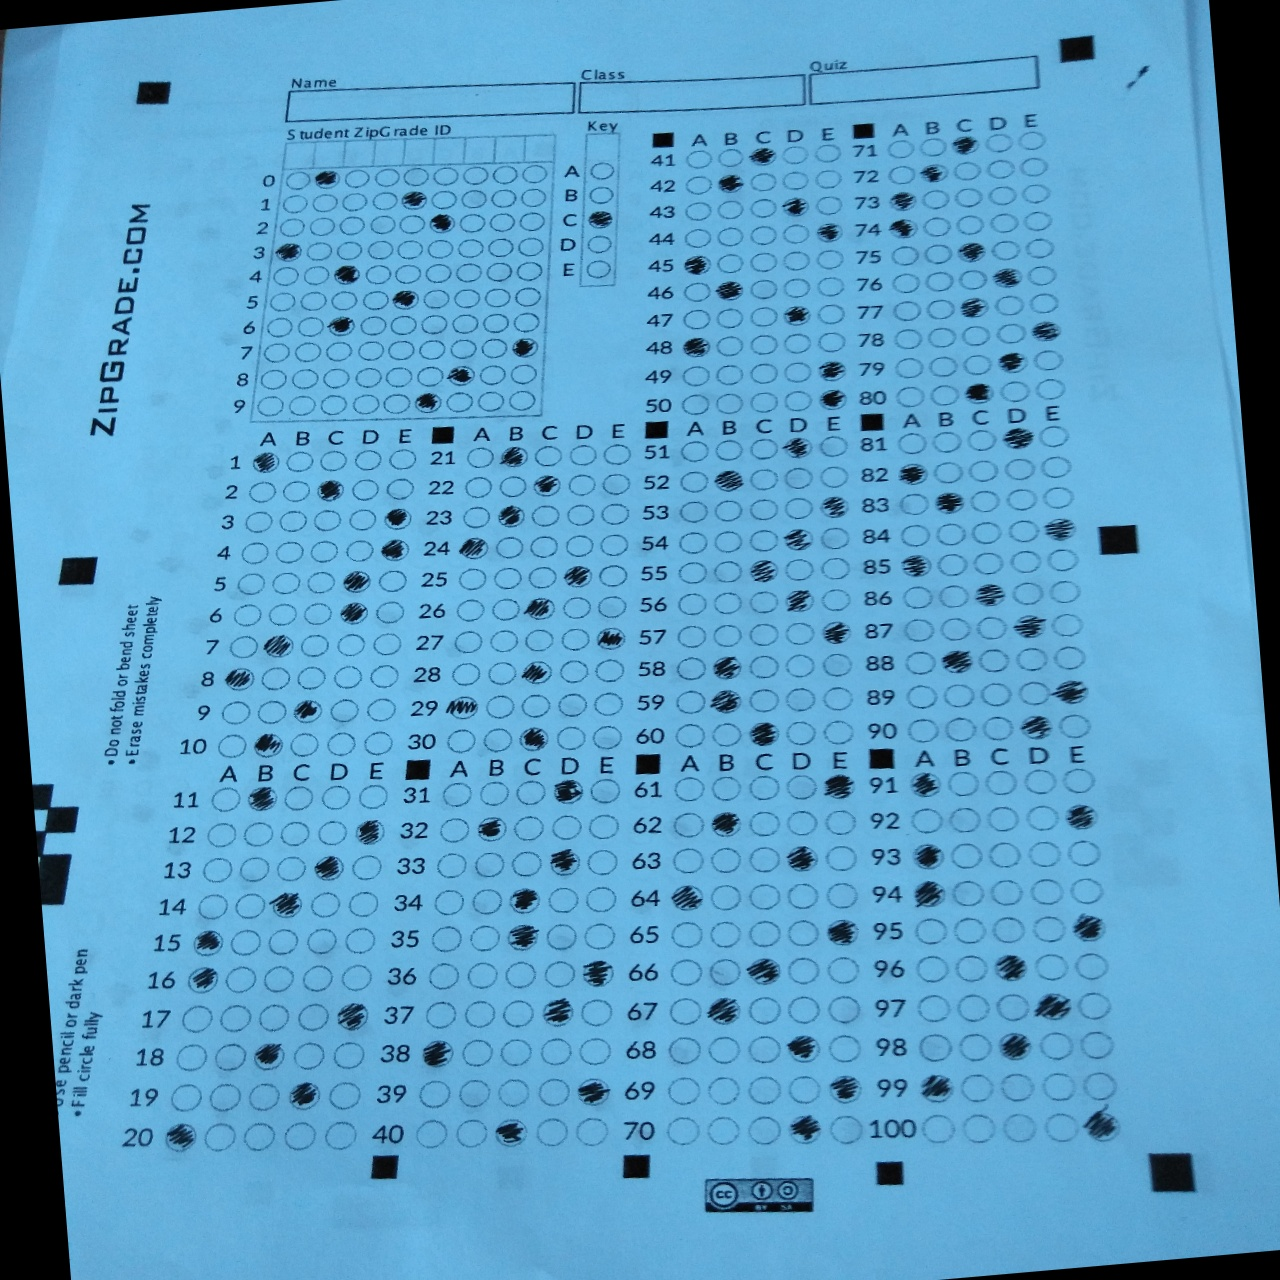not-c: (998, 1069, 1039, 1105), (1080, 1069, 1121, 1104), (666, 956, 704, 990), (707, 918, 745, 952), (823, 954, 862, 988), (983, 803, 1022, 837), (1068, 874, 1107, 908), (1032, 949, 1070, 983), (1077, 1028, 1116, 1062), (999, 1111, 1039, 1144), (745, 1114, 783, 1148), (826, 1114, 864, 1148), (704, 1075, 742, 1109), (707, 956, 744, 990), (745, 1032, 783, 1065), (824, 992, 862, 1026), (745, 917, 783, 951), (707, 881, 744, 915), (744, 806, 782, 840), (707, 840, 744, 874), (670, 772, 708, 806), (708, 772, 745, 806), (745, 771, 783, 805), (945, 765, 982, 799), (983, 767, 1021, 801), (1061, 764, 1098, 798), (1024, 801, 1062, 835), (1028, 874, 1065, 908), (949, 874, 987, 908), (665, 996, 703, 1029), (706, 1034, 744, 1067), (1027, 836, 1065, 869), (951, 915, 989, 948), (1036, 1030, 1075, 1063), (955, 1032, 994, 1064), (915, 1032, 954, 1064), (918, 1112, 956, 1145), (959, 1112, 998, 1145), (1042, 1112, 1081, 1145), (1039, 1070, 1077, 1103), (956, 1071, 996, 1103), (745, 1073, 782, 1107), (824, 806, 860, 840), (1022, 765, 1058, 799), (988, 874, 1024, 908), (1030, 911, 1067, 945), (955, 990, 992, 1024), (665, 1115, 702, 1148), (703, 1114, 741, 1146), (784, 1074, 822, 1107), (666, 1074, 703, 1107), (666, 1034, 703, 1067), (667, 918, 704, 951), (826, 1033, 864, 1065), (787, 994, 824, 1027), (747, 993, 784, 1026), (785, 954, 823, 987), (784, 918, 822, 951), (745, 881, 783, 914), (823, 879, 860, 912), (823, 842, 860, 874), (745, 842, 783, 874), (669, 845, 707, 878), (669, 809, 707, 842), (783, 771, 821, 804), (1065, 836, 1103, 869), (913, 914, 951, 947), (913, 951, 951, 983), (952, 952, 989, 985), (1073, 949, 1110, 982), (915, 992, 953, 1024), (993, 990, 1030, 1023), (1075, 989, 1112, 1022), (1046, 576, 1083, 608), (673, 686, 710, 719), (291, 1039, 326, 1073), (331, 1039, 366, 1073), (341, 924, 377, 956), (264, 926, 300, 959), (436, 815, 472, 847), (584, 846, 620, 879), (544, 920, 580, 953), (510, 812, 546, 845), (467, 922, 503, 955), (223, 964, 259, 996), (202, 1121, 238, 1153), (414, 1118, 450, 1151), (573, 1115, 610, 1148), (503, 958, 539, 990), (422, 999, 458, 1032), (462, 998, 498, 1030), (784, 879, 821, 912), (784, 806, 821, 839), (947, 802, 983, 835), (907, 804, 944, 837), (948, 838, 985, 871), (986, 838, 1022, 871), (903, 682, 940, 714), (708, 719, 745, 750), (207, 1080, 241, 1114), (501, 998, 535, 1032), (428, 924, 463, 956), (440, 778, 475, 811), (513, 776, 549, 809), (586, 811, 621, 844), (583, 881, 618, 914), (583, 919, 618, 952), (509, 847, 544, 880), (469, 885, 504, 918), (173, 1041, 209, 1074), (213, 1041, 248, 1074), (241, 1121, 277, 1153), (295, 1001, 331, 1034), (256, 1001, 291, 1034), (282, 1119, 318, 1152), (415, 1078, 450, 1111), (456, 1077, 491, 1110), (495, 1076, 530, 1109), (579, 996, 614, 1029), (540, 958, 576, 990), (424, 960, 459, 993), (459, 1037, 495, 1070), (990, 913, 1026, 946), (304, 925, 340, 956), (217, 1003, 253, 1035), (299, 962, 335, 994), (326, 1080, 362, 1111), (577, 1036, 613, 1068), (538, 1036, 574, 1068), (938, 613, 974, 645), (975, 612, 1012, 644), (979, 678, 1015, 709), (1051, 644, 1088, 675), (1013, 644, 1049, 675), (782, 716, 818, 748), (673, 654, 709, 686), (709, 619, 745, 651), (747, 619, 783, 651), (898, 519, 934, 551), (904, 716, 941, 747), (431, 887, 467, 919), (434, 850, 469, 881), (476, 777, 511, 809), (587, 775, 622, 806), (545, 885, 580, 917), (472, 849, 508, 880), (227, 926, 263, 958), (179, 1003, 215, 1035), (169, 1082, 204, 1114), (247, 1082, 282, 1114), (339, 962, 374, 994), (537, 1077, 572, 1109), (533, 1116, 568, 1148), (499, 1036, 535, 1068), (454, 1117, 489, 1149), (980, 712, 1015, 743), (942, 714, 978, 745), (903, 646, 938, 678), (976, 645, 1012, 676), (821, 716, 856, 748), (782, 617, 817, 648), (941, 681, 978, 712), (900, 615, 937, 646), (1049, 610, 1085, 640), (900, 583, 937, 613), (674, 588, 710, 619), (263, 964, 297, 995), (549, 812, 584, 843), (324, 1121, 359, 1151), (464, 960, 499, 990), (1016, 678, 1051, 708), (1058, 712, 1094, 742), (673, 720, 708, 750), (673, 622, 708, 653), (783, 685, 818, 715), (745, 686, 781, 716), (745, 653, 781, 683), (819, 585, 855, 615), (324, 729, 358, 760), (444, 726, 478, 756), (452, 595, 486, 626), (319, 783, 353, 813), (712, 588, 745, 619), (782, 651, 817, 680), (745, 587, 781, 617), (675, 558, 712, 586), (675, 529, 712, 557), (817, 525, 853, 553), (781, 464, 817, 492), (712, 436, 748, 464), (361, 728, 395, 757), (485, 659, 519, 688), (449, 660, 483, 689), (557, 658, 591, 687), (486, 627, 520, 656), (488, 595, 522, 625), (594, 592, 628, 621), (316, 818, 350, 847), (233, 892, 267, 921), (346, 890, 380, 919), (821, 649, 855, 679), (817, 554, 852, 583), (782, 556, 817, 584), (710, 557, 745, 585), (935, 551, 971, 579), (968, 518, 1003, 546), (896, 430, 931, 458), (1036, 422, 1071, 450), (1041, 483, 1076, 511), (747, 493, 782, 522), (816, 462, 851, 490), (748, 435, 783, 463), (1008, 549, 1044, 576), (1000, 456, 1036, 483), (210, 785, 243, 815), (591, 689, 624, 719), (557, 626, 590, 655), (559, 593, 592, 622), (282, 784, 315, 813), (215, 731, 248, 760), (553, 723, 587, 751), (556, 690, 590, 719), (519, 692, 553, 720), (483, 694, 517, 722), (593, 658, 627, 686), (522, 627, 556, 655), (595, 561, 629, 590), (527, 564, 561, 592), (355, 783, 389, 811), (236, 855, 270, 883), (274, 855, 308, 883), (349, 853, 383, 881), (821, 685, 855, 713), (712, 527, 745, 556), (971, 550, 1005, 578), (934, 520, 968, 549), (1005, 486, 1039, 515), (1039, 452, 1073, 481), (678, 469, 712, 497), (678, 437, 712, 465), (745, 527, 781, 554), (1010, 581, 1046, 608), (968, 488, 1003, 515), (966, 458, 1001, 485), (964, 425, 999, 452), (897, 490, 932, 517), (710, 497, 745, 524), (675, 499, 710, 526), (206, 821, 238, 850), (295, 663, 328, 692), (259, 663, 292, 692), (287, 731, 320, 760), (481, 726, 513, 754), (451, 628, 484, 656), (202, 856, 234, 884), (196, 893, 229, 921), (309, 890, 342, 918), (279, 821, 313, 847), (241, 821, 275, 847), (937, 583, 971, 610), (1046, 549, 1080, 576), (1007, 517, 1041, 544), (931, 459, 965, 486), (930, 427, 964, 454), (783, 493, 817, 520), (748, 467, 782, 493), (816, 433, 850, 459), (983, 155, 1017, 182), (239, 539, 271, 567), (301, 600, 333, 628), (333, 663, 365, 692), (219, 699, 251, 727), (591, 724, 622, 753), (599, 501, 631, 529), (748, 302, 779, 331), (350, 447, 383, 474), (305, 568, 338, 595), (375, 599, 408, 626), (299, 632, 332, 659), (335, 631, 368, 658), (256, 697, 288, 724), (563, 533, 595, 560), (529, 502, 561, 529), (459, 504, 492, 531), (781, 331, 813, 358), (713, 360, 745, 387), (713, 332, 745, 359), (779, 275, 812, 302), (714, 248, 747, 275), (922, 267, 955, 294), (962, 352, 995, 379), (993, 292, 1026, 319), (1026, 263, 1058, 290), (956, 266, 989, 293), (990, 237, 1023, 264), (1021, 207, 1054, 234), (955, 212, 988, 239), (951, 183, 983, 210), (1017, 154, 1050, 181), (885, 162, 918, 189), (884, 135, 917, 162), (781, 222, 813, 248), (1032, 375, 1065, 401), (1032, 347, 1065, 373), (777, 142, 812, 166), (231, 602, 263, 629), (372, 631, 403, 658), (368, 663, 400, 690), (328, 697, 360, 724), (491, 564, 523, 591), (565, 502, 597, 529), (462, 474, 493, 501), (601, 471, 633, 498), (680, 392, 712, 418), (749, 360, 781, 387), (748, 331, 779, 358), (748, 275, 779, 302), (928, 382, 960, 409), (892, 356, 924, 383), (890, 270, 921, 297), (960, 322, 992, 349), (1023, 233, 1055, 260), (989, 209, 1021, 236), (952, 157, 983, 184), (343, 537, 376, 563), (234, 570, 267, 595), (270, 570, 302, 595), (365, 697, 397, 723), (597, 532, 629, 558), (532, 443, 565, 469), (463, 444, 496, 470), (747, 389, 779, 415), (781, 388, 813, 414), (815, 302, 847, 328), (679, 363, 712, 389), (680, 307, 713, 333), (926, 354, 959, 380), (999, 377, 1032, 403), (994, 321, 1027, 347), (920, 188, 953, 213), (983, 182, 1016, 207), (1017, 181, 1050, 206), (983, 130, 1016, 156), (917, 134, 949, 159), (682, 225, 715, 251), (681, 198, 714, 224), (681, 172, 714, 198), (266, 601, 297, 628), (493, 535, 524, 561), (497, 472, 527, 499), (568, 443, 599, 470), (316, 449, 348, 475), (387, 445, 418, 471), (281, 478, 313, 504), (241, 509, 273, 535), (312, 508, 343, 533), (308, 539, 340, 565), (377, 568, 409, 594), (229, 634, 260, 660), (456, 566, 488, 592), (527, 535, 559, 560), (566, 472, 598, 498), (601, 441, 633, 467), (714, 392, 745, 417), (816, 331, 847, 356), (715, 305, 747, 331), (813, 274, 845, 300), (813, 246, 845, 272), (782, 248, 813, 274), (748, 248, 779, 274), (896, 383, 927, 409), (888, 244, 920, 270), (925, 295, 956, 321), (926, 325, 958, 350), (1027, 291, 1058, 316), (1017, 128, 1049, 154), (715, 224, 747, 250), (682, 147, 714, 172), (714, 144, 745, 170), (813, 141, 845, 166), (892, 327, 925, 352), (747, 170, 779, 195), (418, 312, 449, 338), (247, 479, 278, 505), (277, 508, 307, 533), (783, 360, 813, 386), (681, 278, 712, 304), (749, 222, 779, 247), (346, 508, 377, 532), (892, 299, 924, 324), (922, 241, 954, 266), (921, 213, 953, 238), (779, 169, 811, 193), (325, 339, 354, 365), (583, 257, 613, 281), (394, 237, 424, 261), (365, 237, 395, 261), (270, 265, 300, 290), (265, 315, 295, 340), (355, 339, 386, 363), (290, 367, 320, 392), (284, 449, 314, 474), (386, 477, 416, 502), (349, 477, 380, 502), (274, 539, 305, 564), (448, 338, 479, 361), (258, 367, 290, 390), (811, 168, 843, 191), (813, 193, 845, 217), (429, 188, 458, 212), (518, 210, 547, 234), (425, 236, 455, 260), (483, 285, 512, 309), (353, 366, 382, 390), (287, 394, 316, 418), (282, 169, 313, 192), (490, 164, 520, 188), (339, 190, 369, 213), (277, 216, 307, 239), (307, 215, 338, 238), (305, 239, 335, 263), (393, 263, 423, 286), (515, 259, 545, 282), (388, 314, 418, 338), (449, 312, 479, 335), (386, 338, 416, 361), (318, 393, 348, 416), (749, 195, 779, 218), (715, 198, 745, 222), (513, 285, 542, 309), (384, 365, 413, 389), (342, 166, 372, 190), (401, 164, 430, 188), (461, 163, 490, 186), (520, 162, 550, 185), (488, 188, 517, 211), (338, 215, 367, 238), (396, 212, 425, 236), (486, 210, 516, 233), (587, 159, 617, 183), (587, 184, 617, 207), (516, 234, 545, 258), (456, 237, 485, 260), (302, 263, 332, 286), (363, 263, 393, 286), (423, 261, 452, 285), (455, 260, 484, 284), (484, 260, 513, 284), (481, 312, 510, 335), (512, 312, 542, 335), (478, 363, 508, 387), (417, 339, 447, 362), (294, 340, 324, 363), (320, 367, 349, 390), (415, 366, 444, 389), (476, 390, 505, 414), (382, 393, 411, 416), (350, 392, 380, 415), (256, 394, 285, 417), (309, 192, 340, 215), (585, 233, 615, 256), (334, 240, 365, 263), (297, 290, 327, 312), (361, 290, 392, 312), (422, 288, 452, 311), (358, 315, 388, 338), (508, 362, 538, 384), (372, 190, 400, 213), (486, 236, 515, 259), (297, 314, 325, 338), (268, 290, 297, 313), (263, 341, 291, 365), (445, 390, 474, 414), (372, 166, 401, 189), (518, 186, 547, 209), (280, 192, 309, 215), (368, 213, 397, 236), (331, 290, 360, 312), (479, 336, 509, 359), (508, 389, 537, 411), (431, 165, 459, 188), (459, 188, 488, 210), (458, 212, 486, 234), (452, 287, 481, 309)
taken-c: (1081, 1109, 1124, 1146), (990, 949, 1033, 987), (1068, 911, 1110, 945), (785, 1110, 824, 1146), (1034, 988, 1073, 1024), (996, 1029, 1034, 1065), (918, 1073, 956, 1108), (250, 1040, 290, 1074), (159, 1121, 199, 1155), (910, 877, 949, 911), (1053, 675, 1092, 709), (285, 1080, 324, 1114), (579, 956, 618, 990), (545, 846, 584, 880), (471, 813, 510, 847), (502, 921, 542, 954), (908, 838, 948, 871), (576, 1074, 613, 1108), (539, 996, 577, 1030), (333, 1001, 372, 1034), (418, 1039, 457, 1071), (492, 1115, 531, 1148), (505, 886, 544, 919), (549, 777, 587, 810), (513, 724, 552, 757), (823, 915, 862, 948), (1063, 799, 1102, 832), (1016, 712, 1055, 744), (939, 646, 978, 679), (1010, 610, 1049, 642), (905, 770, 945, 802), (972, 580, 1012, 612), (668, 881, 706, 914), (826, 1073, 864, 1105), (268, 890, 306, 921), (184, 964, 222, 995), (784, 843, 822, 874), (785, 1033, 823, 1064), (747, 719, 783, 750), (709, 809, 745, 840), (747, 956, 784, 987), (707, 995, 744, 1026), (898, 552, 935, 583), (932, 490, 969, 520), (222, 663, 258, 694), (350, 817, 387, 847), (189, 928, 225, 959), (822, 771, 858, 802), (896, 458, 933, 488), (518, 658, 553, 688), (492, 502, 527, 532), (245, 784, 281, 813), (783, 586, 819, 615), (1043, 515, 1080, 544), (261, 632, 297, 661), (291, 697, 326, 727), (251, 730, 286, 760), (312, 853, 347, 883), (445, 693, 481, 722), (457, 535, 492, 564), (781, 525, 816, 554), (819, 618, 855, 647), (995, 348, 1030, 377), (955, 239, 990, 268), (918, 158, 953, 188), (745, 557, 782, 585), (561, 561, 594, 592), (524, 594, 558, 624), (495, 442, 529, 471), (710, 687, 744, 716), (962, 380, 998, 408), (1029, 318, 1064, 346), (990, 264, 1026, 292), (594, 625, 627, 654), (377, 536, 411, 564), (527, 472, 561, 501), (679, 333, 713, 361), (956, 294, 990, 322), (886, 216, 920, 244), (712, 654, 747, 681), (1001, 425, 1036, 452), (885, 188, 920, 215), (338, 599, 370, 627), (779, 300, 812, 328), (777, 193, 811, 220), (812, 219, 846, 246), (817, 493, 851, 520), (947, 132, 981, 159), (816, 387, 849, 414), (781, 435, 813, 462), (713, 467, 745, 493), (745, 142, 779, 168), (813, 358, 847, 383), (341, 568, 373, 595), (584, 207, 617, 233), (250, 450, 282, 476), (713, 171, 745, 197), (679, 252, 712, 278), (713, 277, 745, 302), (381, 506, 413, 532), (312, 166, 343, 191), (332, 263, 363, 287), (445, 363, 477, 388), (413, 389, 444, 414), (314, 478, 346, 503), (510, 336, 542, 360), (399, 188, 429, 211), (274, 240, 305, 264), (392, 288, 422, 312), (427, 212, 457, 234), (327, 315, 358, 338)
